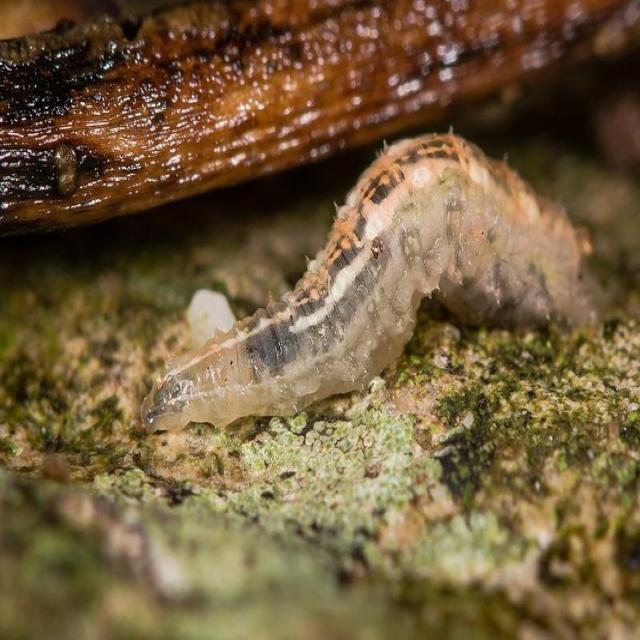grub: (141, 119, 600, 444)
